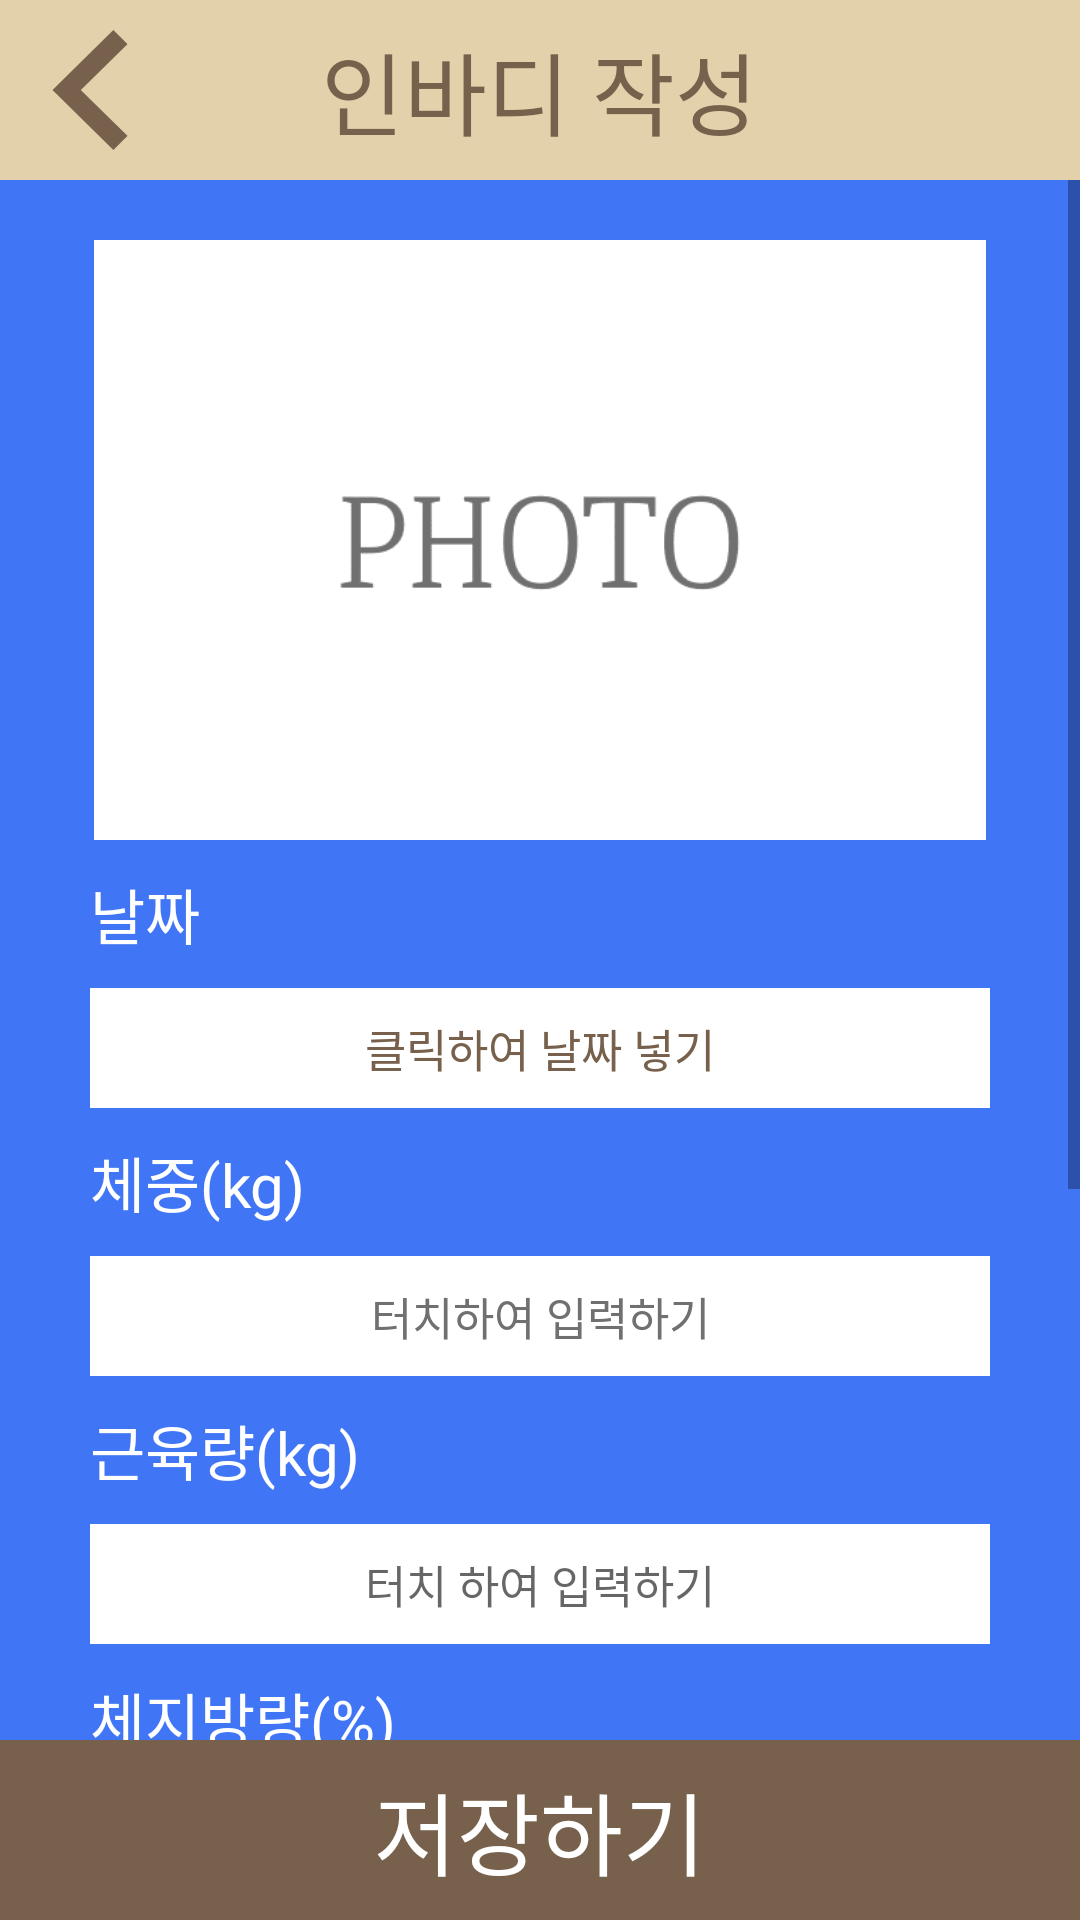

Locate icon controls on the screen. Image size 1080 x 1920, boxes as bbox=[x1, y1, x2, y2].
back: bbox=[53, 30, 127, 150]
